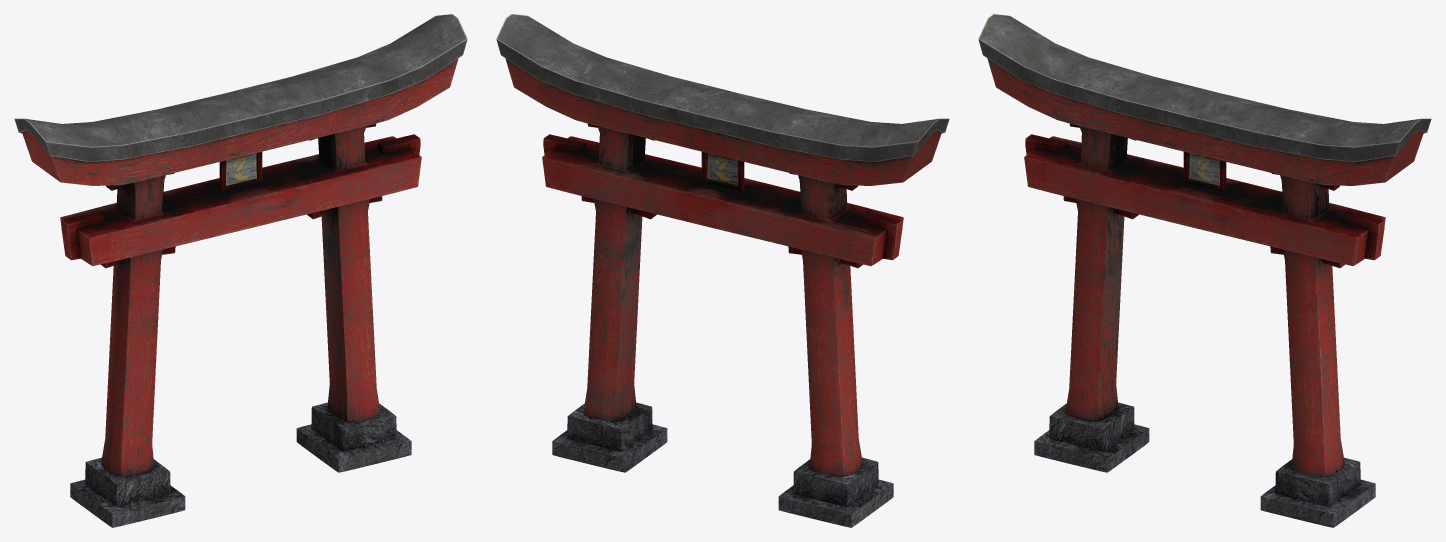
Rendered from Torii_M.glb.
The picture shows the model from 3 angles, left to right: view 1: azimuth 30°, elevation 25°; view 2: azimuth 150°, elevation 25°; view 3: azimuth 330°, elevation 25°; orthographic projection.
Visible parts, largest first — view 1: tate1; view 2: tate1; view 3: tate1.
Part boxes in pixels (x1=…): tate1: x1=14, y1=14, x2=467, y2=527; tate1: x1=496, y1=14, x2=949, y2=527; tate1: x1=978, y1=14, x2=1431, y2=527.
Size of the model in its own units: 1.42 by 1.29 by 0.2431.
1 material, 1 textured.
